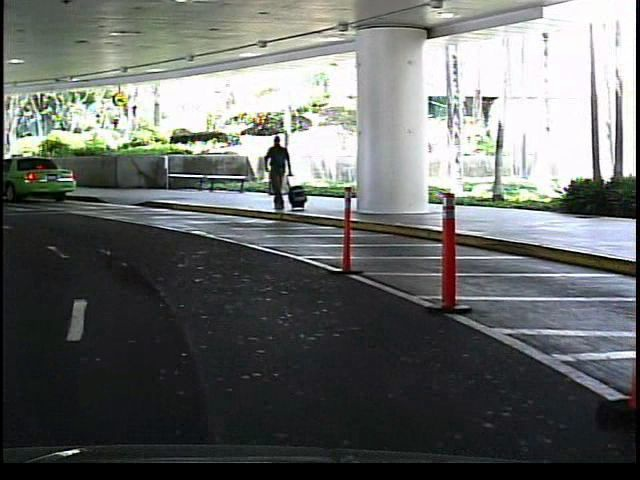person: (263, 130, 299, 216)
